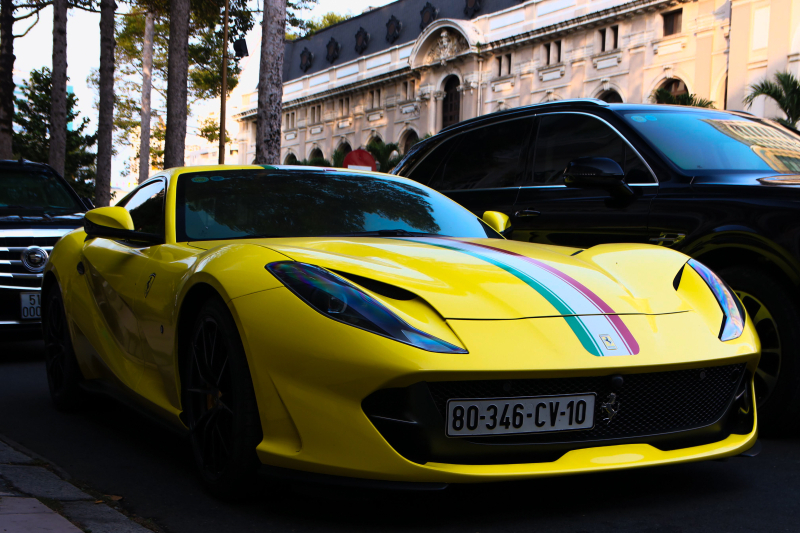number_plate: (443, 392, 601, 444), (15, 290, 42, 319)
